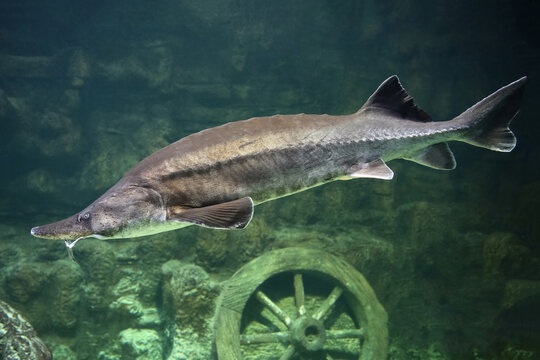Sturgeon: (16, 81, 516, 321)
